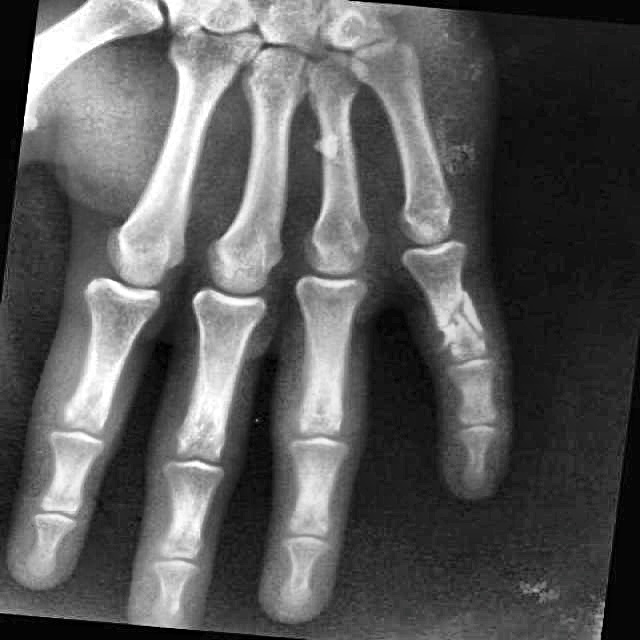Comminuted: (432, 301, 507, 364)
